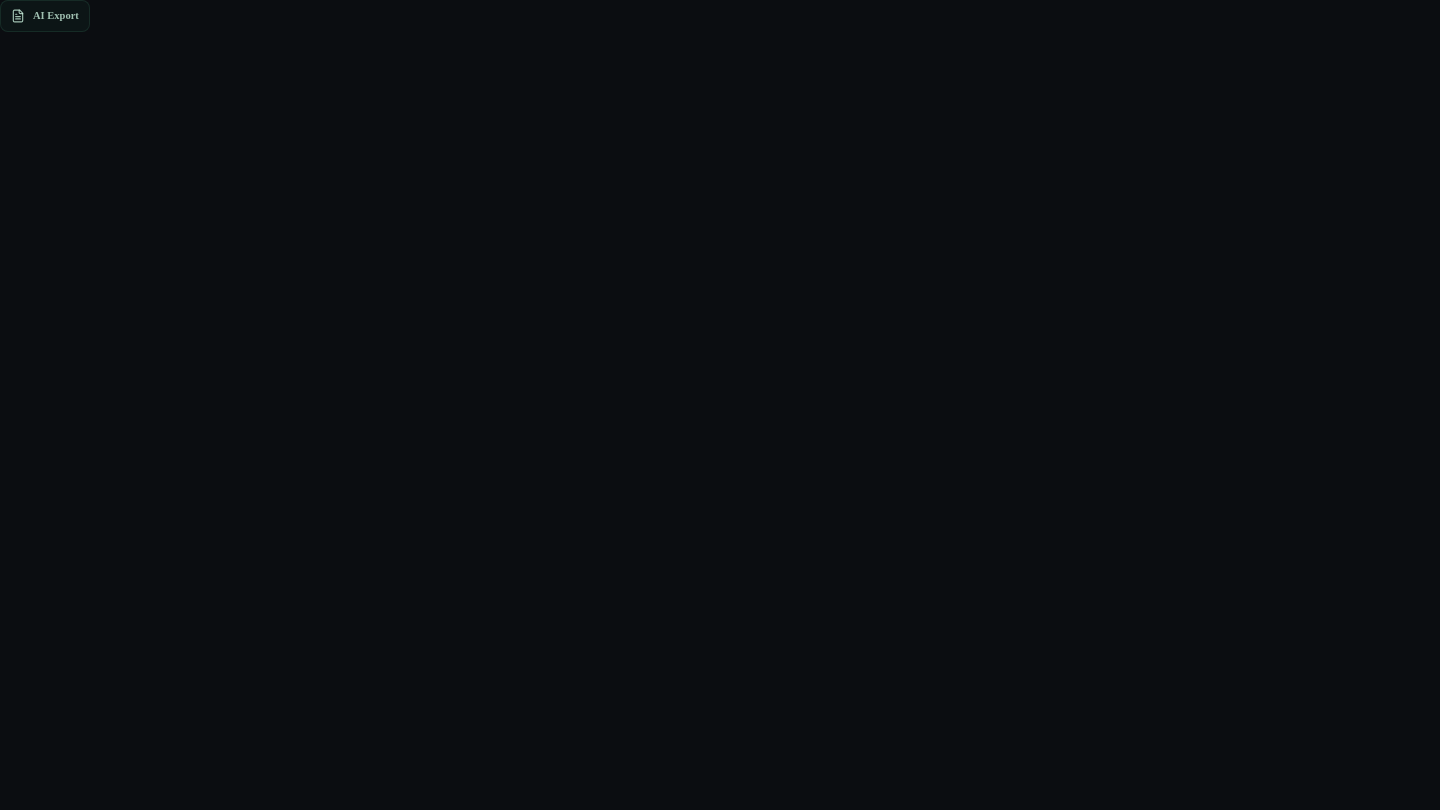
Scenario: single-file AI export control › cancels preparation without opening Save As and surfaces save failures without stale success
The width and height of the screenshot is (1440, 810).
What coordinates should you click on to do the following:
click the button with test id "library-ai-export-button"
I would click on:
 (45, 16)
Its box is [0,0,90,32].
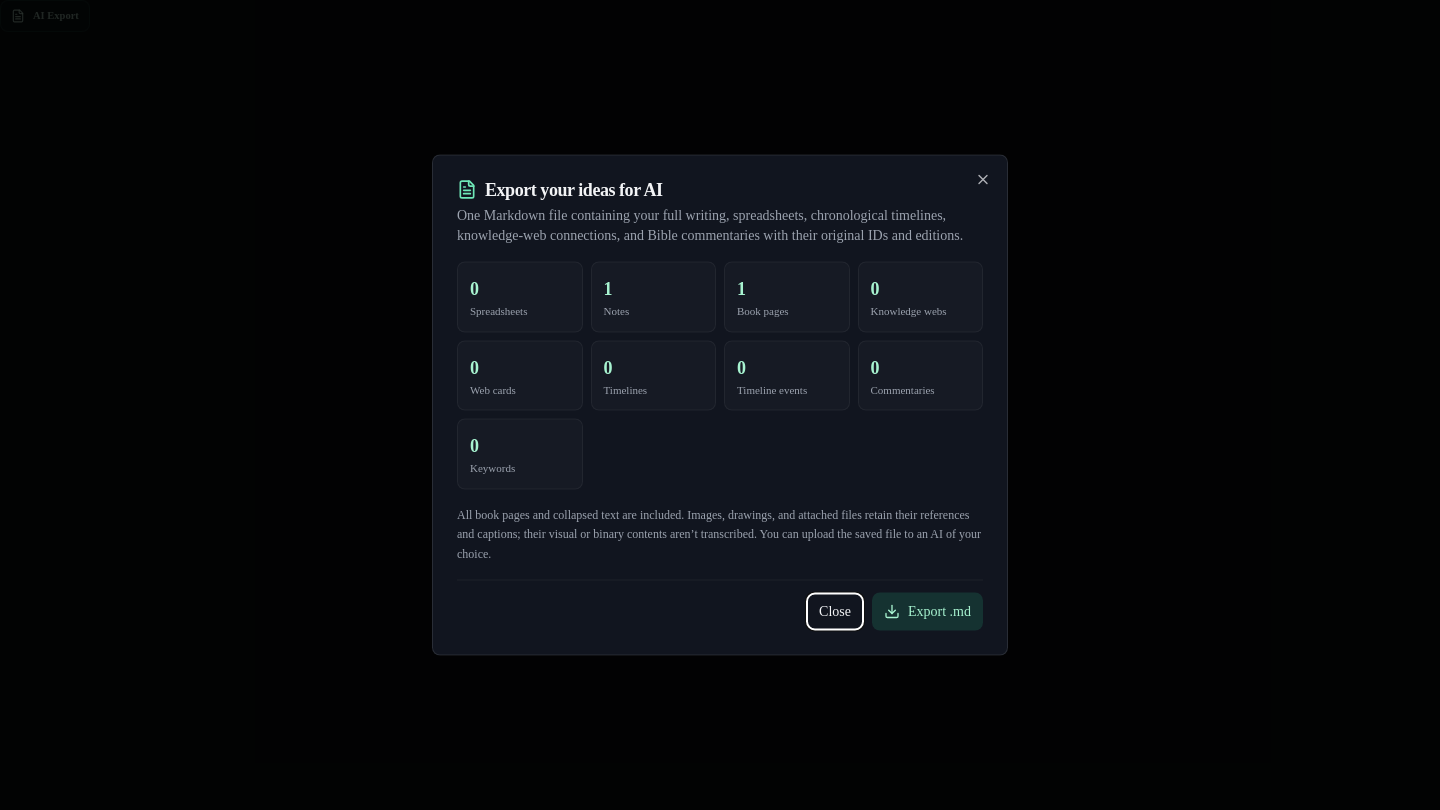
Expected: the button with test id "ai-export-save" is enabled
What coordinates should you click on to do the following:
click the button with test id "ai-export-save"
I would click on:
 (928, 612)
Its box is [872,592,983,630].
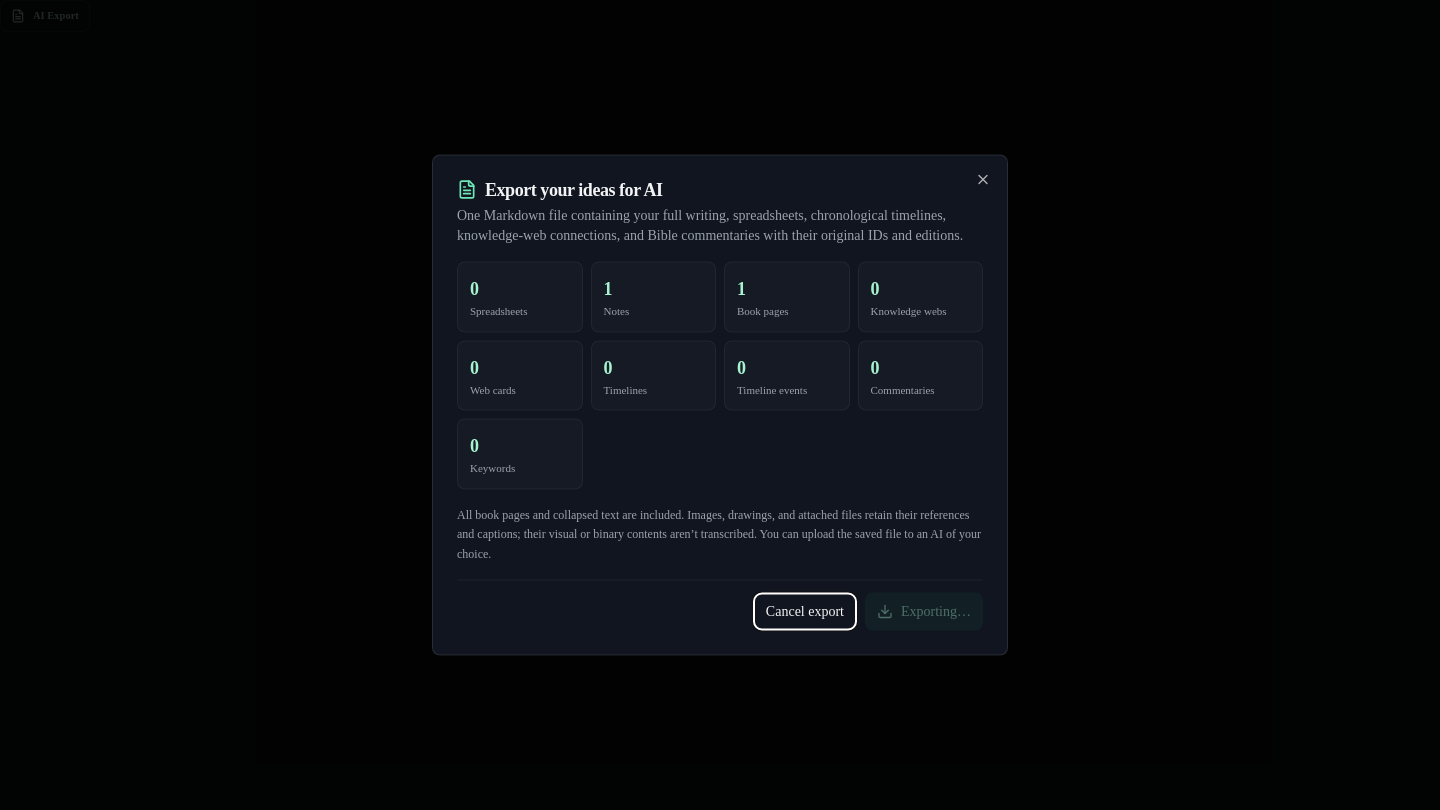
What coordinates should you click on to do the following:
click the button "Cancel export"
I would click on:
 (805, 612)
Its box is [753,592,857,630].
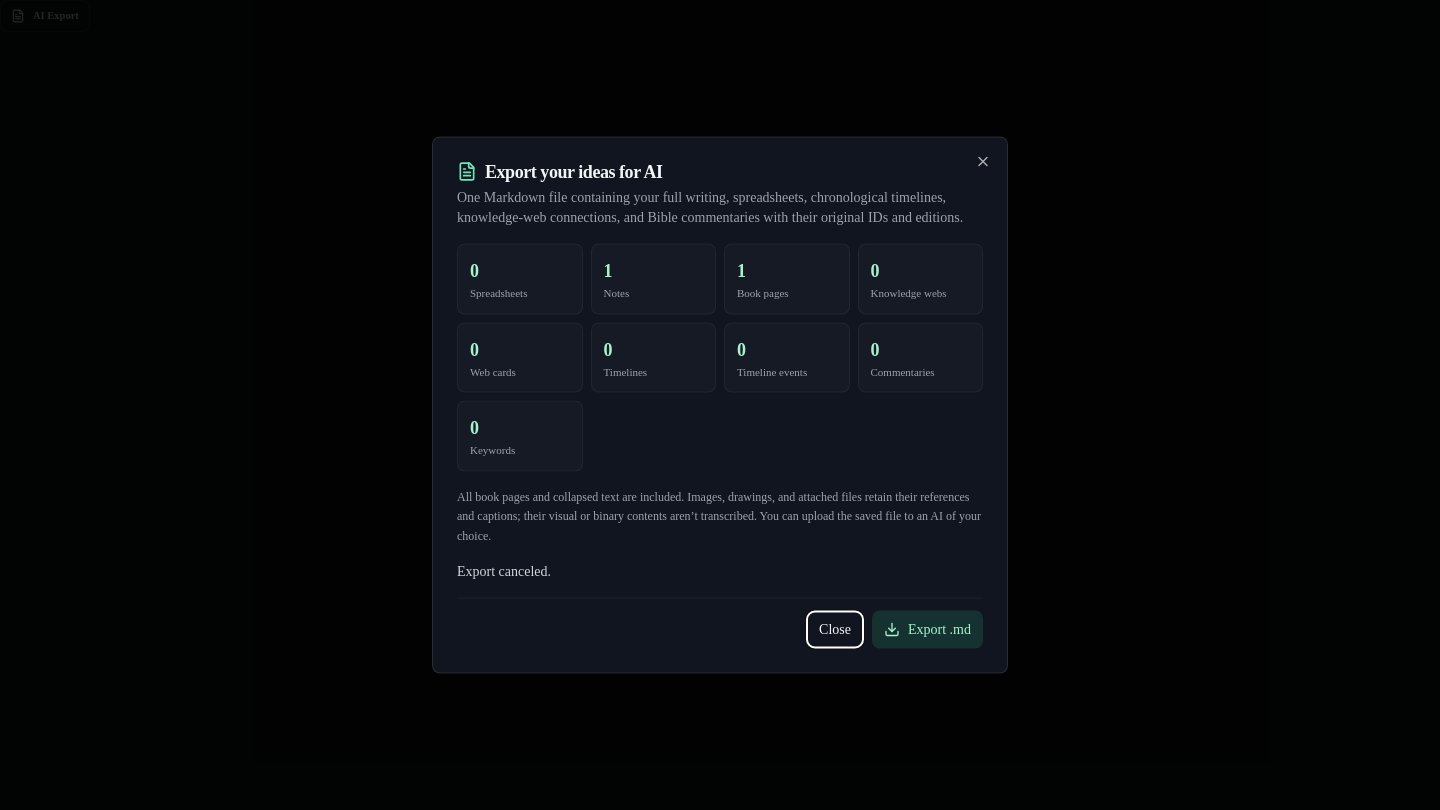
Expected: the text "Export canceled." is shown, [457,564,551,578]
What coordinates should you click on to do the following:
click the button with test id "ai-export-save"
I would click on:
 (928, 630)
Its box is [872,610,983,648].
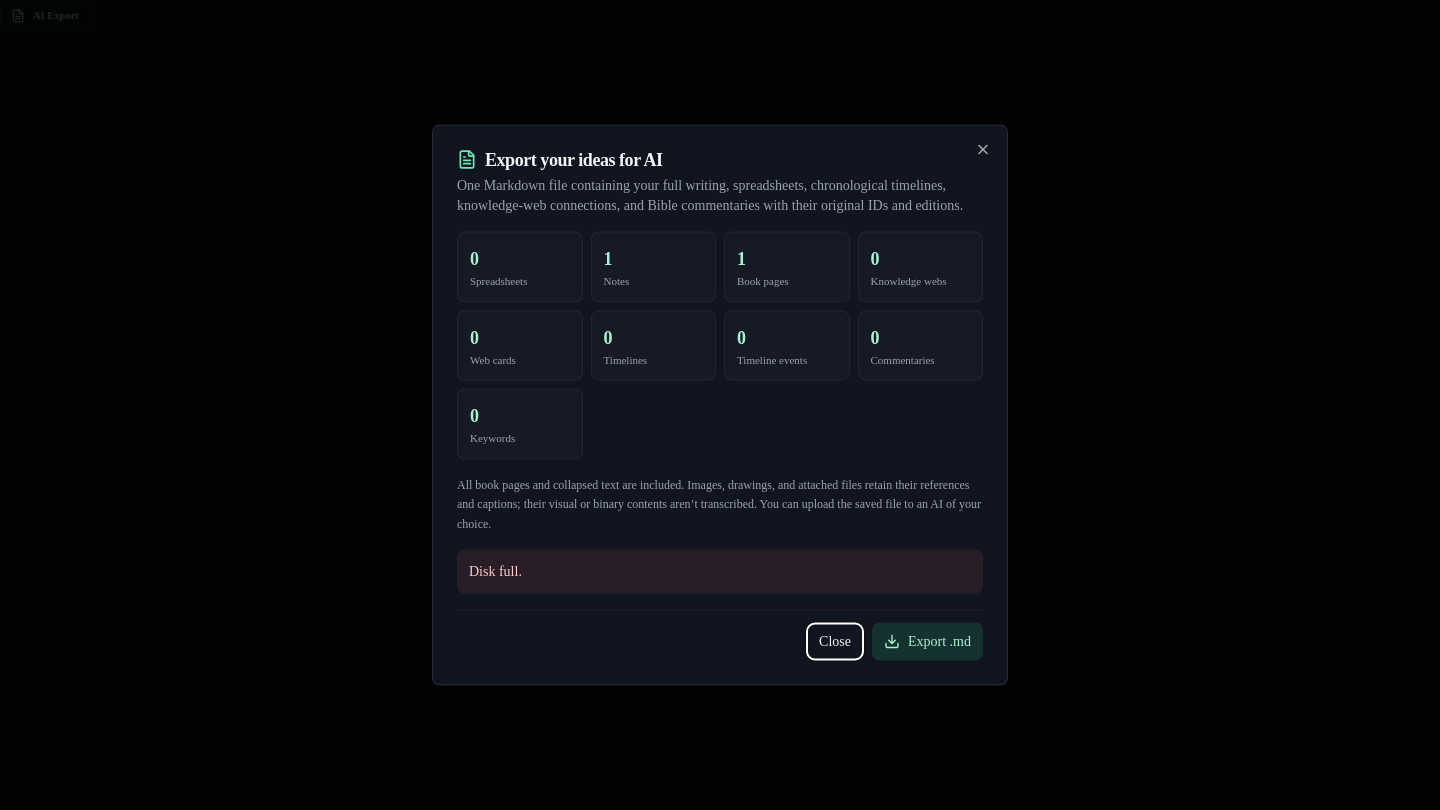
Expected: the message reads "Disk full.", [469,564,522,578]
